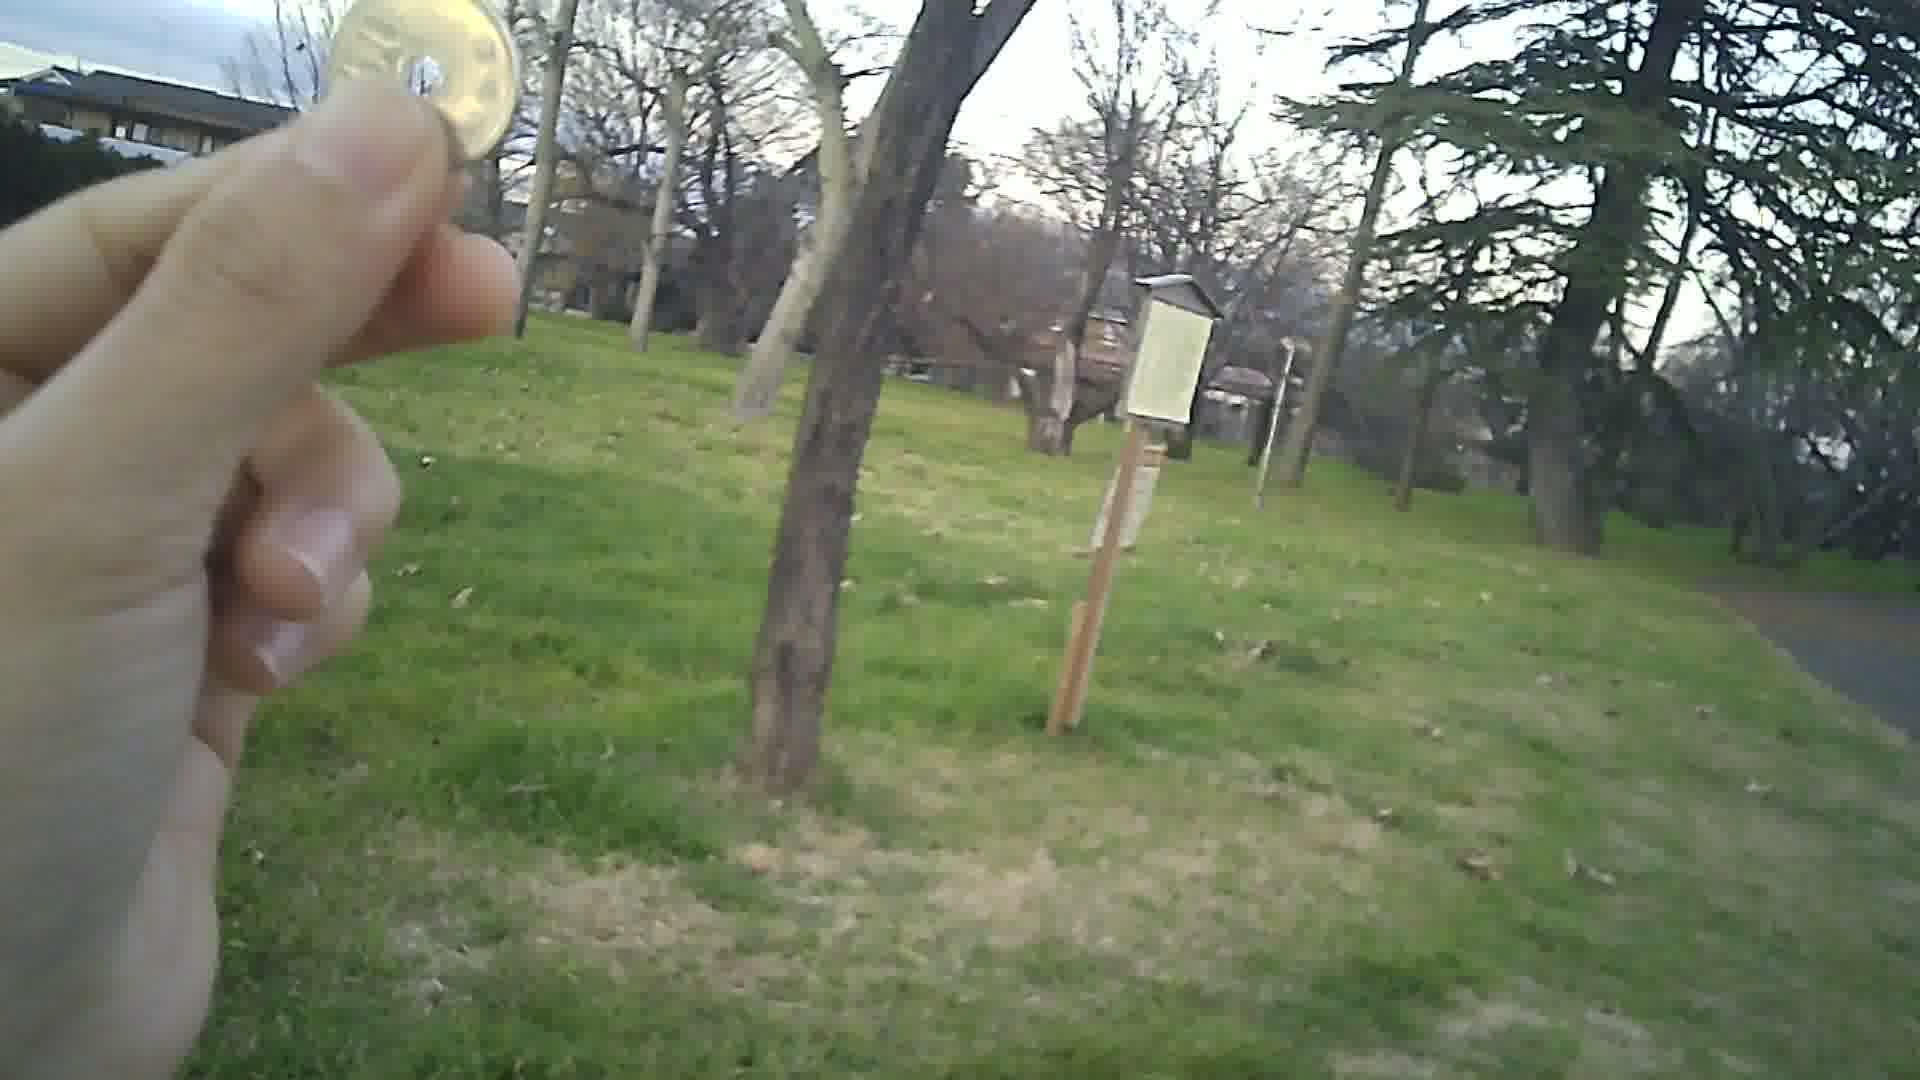50 Yen: (318, 3, 520, 179)
